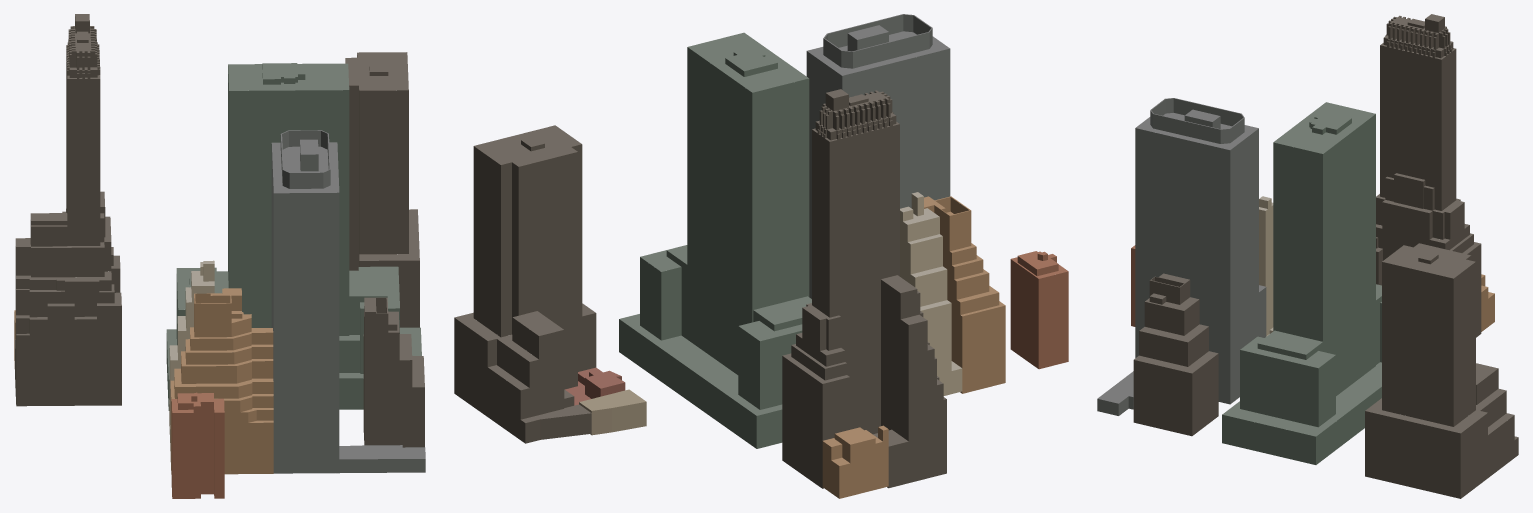
The model's file is tile-9_-12.glb.
The picture shows the model from 3 angles, left to right: view 1: azimuth 30°, elevation 25°; view 2: azimuth 150°, elevation 25°; view 3: azimuth 270°, elevation 25°; orthographic projection. The views are drawn at different scales.
Parts seen in each view (by area): view 1: wall, roof; view 2: wall, roof; view 3: wall, roof.
Boxes of the visible parts, x1,y1,x2,y2 form: wall: (14, 16, 425, 498); roof: (14, 14, 425, 459); wall: (454, 14, 1068, 498); roof: (454, 14, 1068, 465); wall: (1097, 16, 1518, 498); roof: (1097, 14, 1518, 439).
Bounding box in the file's own units: 252 × 200 × 233.
